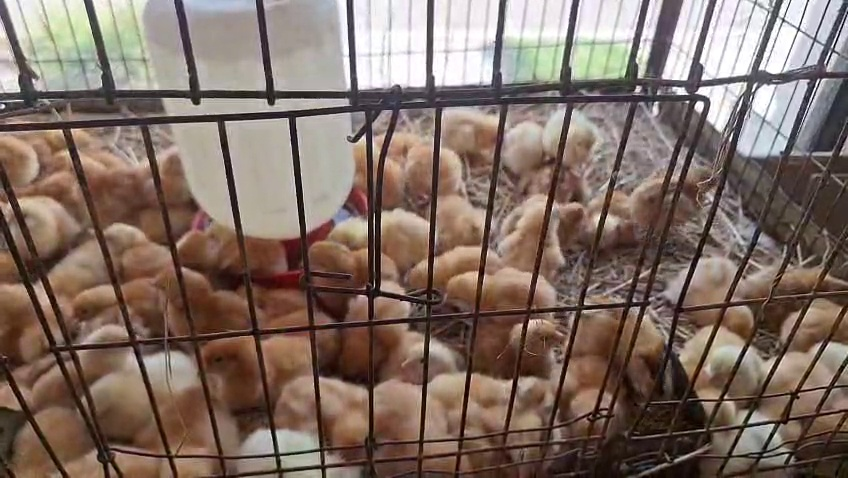Pollo: (364, 373, 469, 477), (550, 295, 660, 393), (80, 347, 203, 434), (208, 317, 321, 402), (700, 380, 797, 478), (157, 334, 221, 477), (434, 354, 513, 466), (236, 410, 366, 474), (661, 253, 762, 331), (328, 266, 397, 380), (267, 361, 376, 432), (484, 191, 575, 275), (354, 167, 432, 262), (540, 332, 626, 418), (9, 388, 88, 478), (478, 353, 551, 445), (416, 265, 527, 325), (772, 378, 848, 464), (296, 228, 398, 291), (748, 252, 848, 316), (658, 304, 737, 384), (106, 138, 200, 205), (198, 211, 287, 281), (102, 210, 178, 290), (153, 217, 225, 298), (757, 270, 848, 334), (6, 188, 83, 261), (71, 426, 176, 478), (636, 163, 715, 230), (463, 311, 548, 371), (410, 187, 485, 251), (157, 289, 267, 331), (3, 278, 63, 355), (738, 332, 809, 397), (780, 321, 847, 387), (429, 105, 508, 160), (572, 185, 637, 250), (389, 125, 453, 188), (70, 156, 136, 217), (414, 235, 497, 283), (0, 130, 66, 184), (273, 292, 339, 346), (542, 103, 600, 164), (378, 319, 446, 368), (64, 282, 139, 325), (22, 351, 97, 392), (60, 324, 135, 363), (503, 109, 545, 178), (520, 154, 579, 199), (369, 109, 408, 166), (490, 449, 549, 477), (490, 185, 580, 202)
